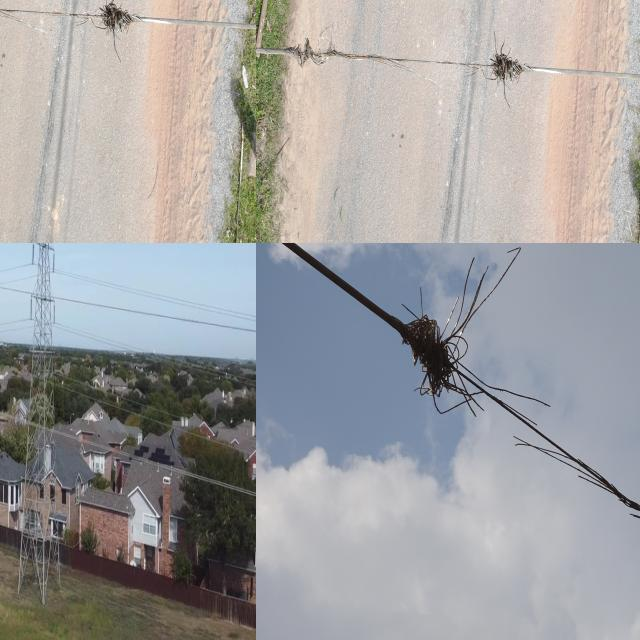杆塔: (9, 243, 64, 610)
正常绝缘子: (49, 247, 58, 276), (28, 290, 34, 323), (51, 299, 58, 327), (30, 243, 36, 271)
电缆破损: (382, 255, 640, 542), (263, 4, 534, 100), (0, 0, 143, 45)
